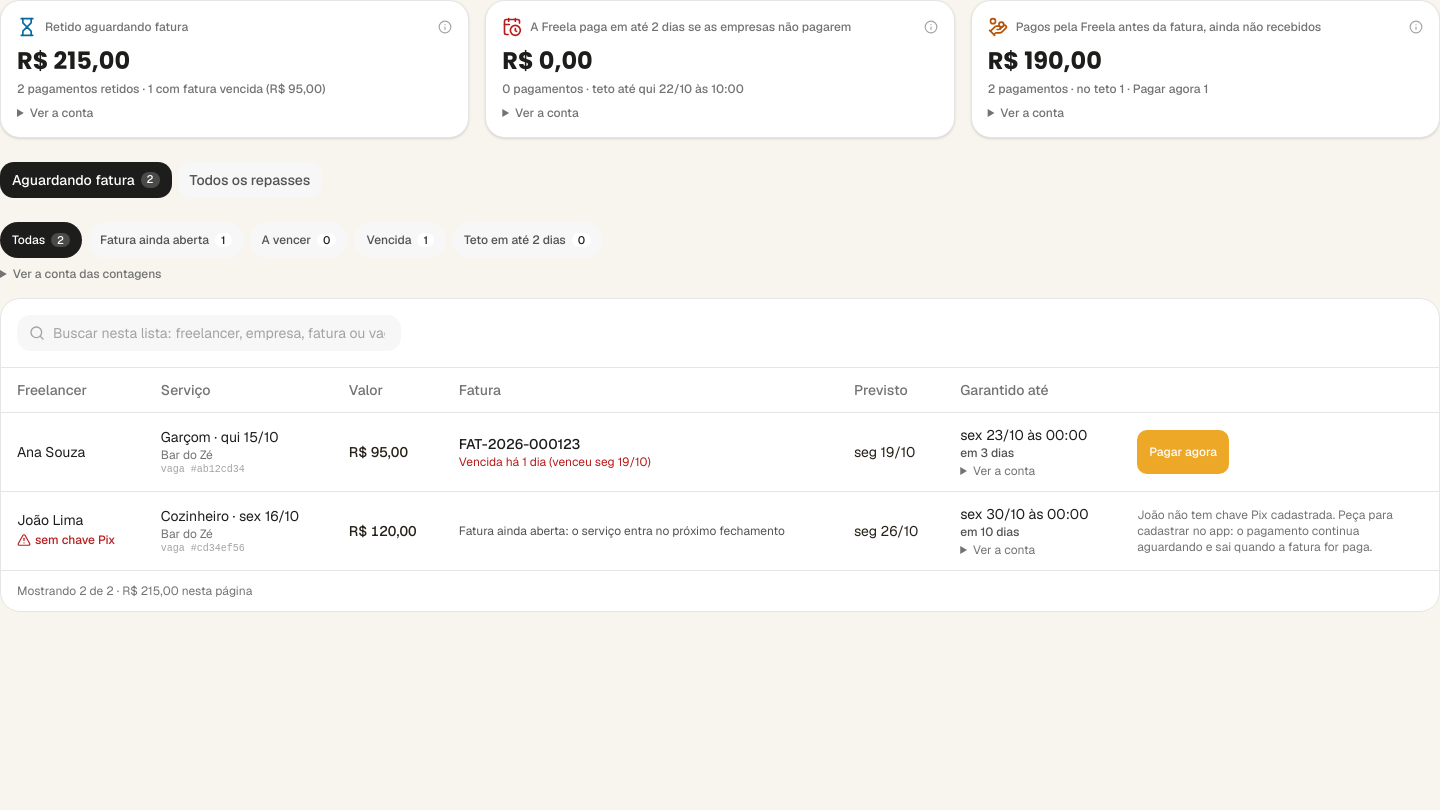
Scenario: Pagamentos aos freelancers — aguardando fatura › 'Pagar agora' abre o diálogo da linha
Click the button with aria-label "Pagar agora R$ 95,00 para Ana Souza". click: (1183, 452)
box: [1137,430,1229,474]
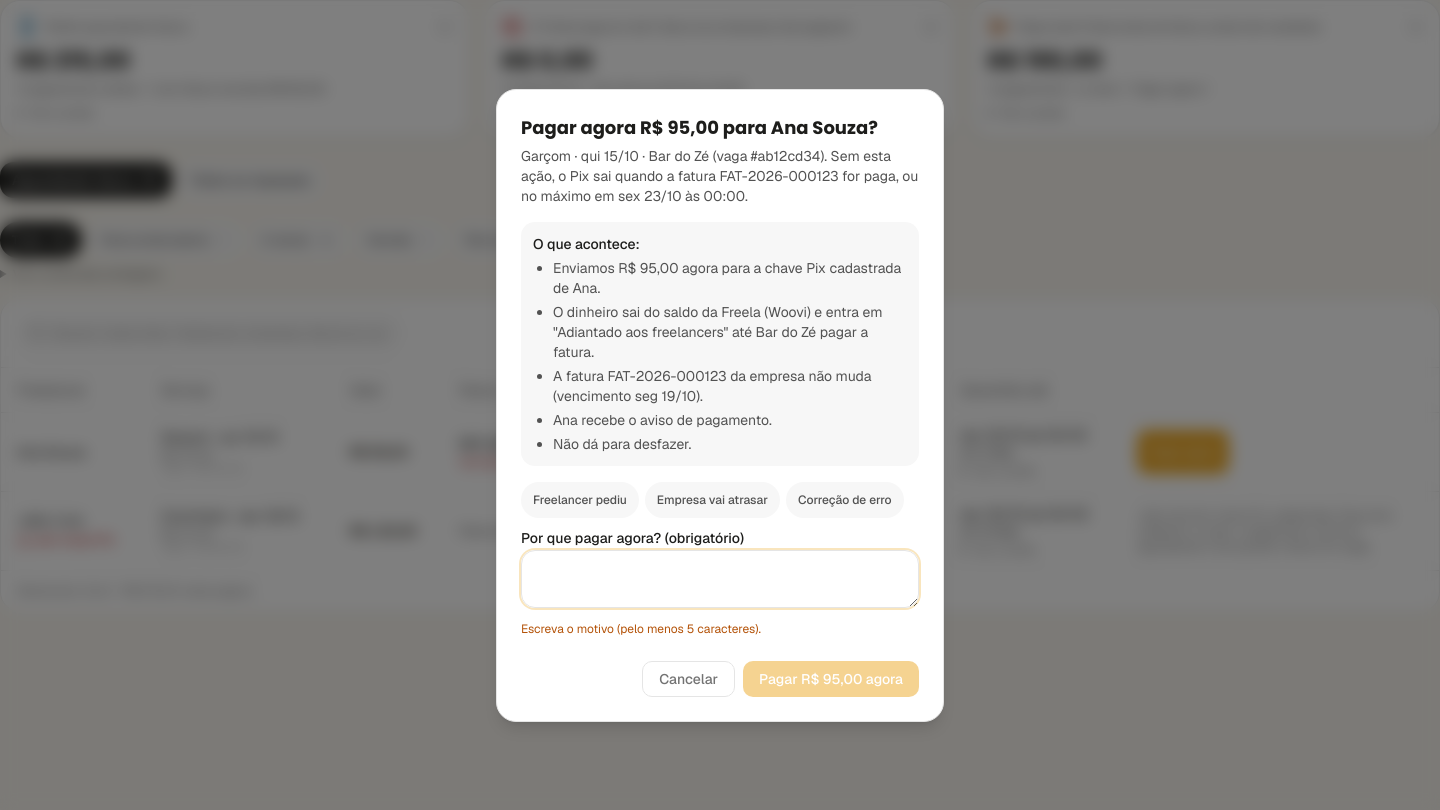
Result: the heading "Pagar agora R$ 95,00 para Ana Souza?" is shown at [521,114,919,142]
